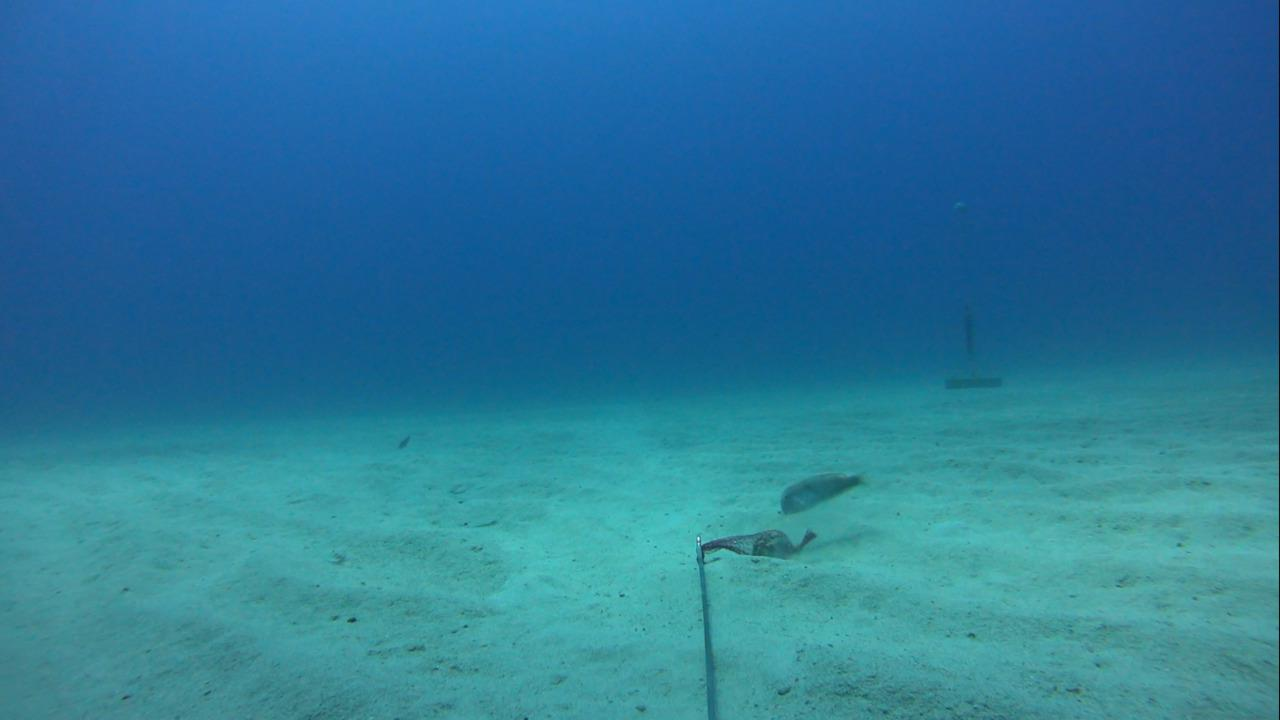raor: (764, 462, 871, 520)
